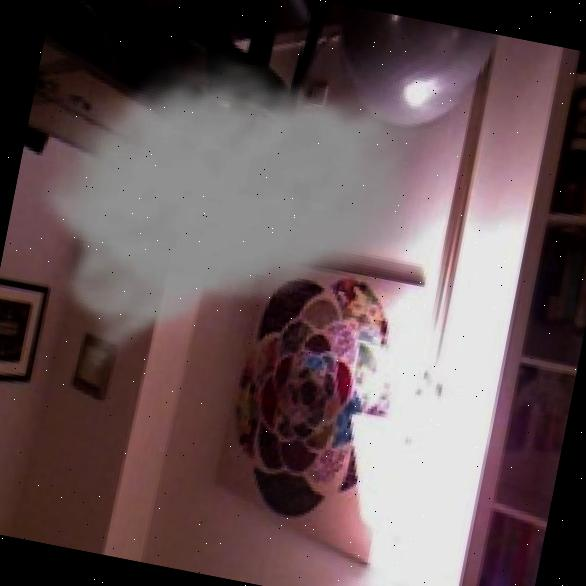smoke: (0, 17, 464, 448)
